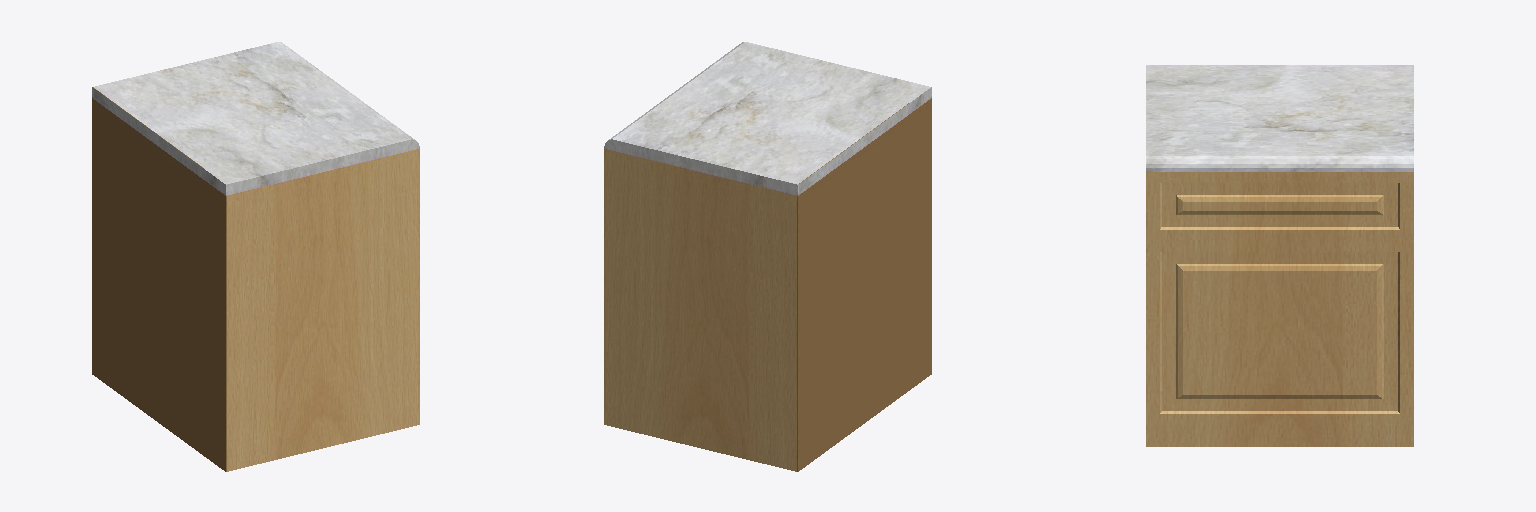
3 views of the same model, side by side, from view 1: azimuth 30°, elevation 25°; view 2: azimuth 150°, elevation 25°; view 3: azimuth 270°, elevation 25° (orthographic).
Visible parts, largest first — view 1: kitchen_unit_1; view 2: kitchen_unit_1; view 3: kitchen_unit_1.
Boxes of the visible parts, <box> form: kitchen_unit_1: <box>92,42,419,471</box>; kitchen_unit_1: <box>604,42,931,471</box>; kitchen_unit_1: <box>1146,65,1413,446</box>.
Size of the model in its own units: 5.02 by 7.12 by 6.
Materials: 1 (1 with a texture image).